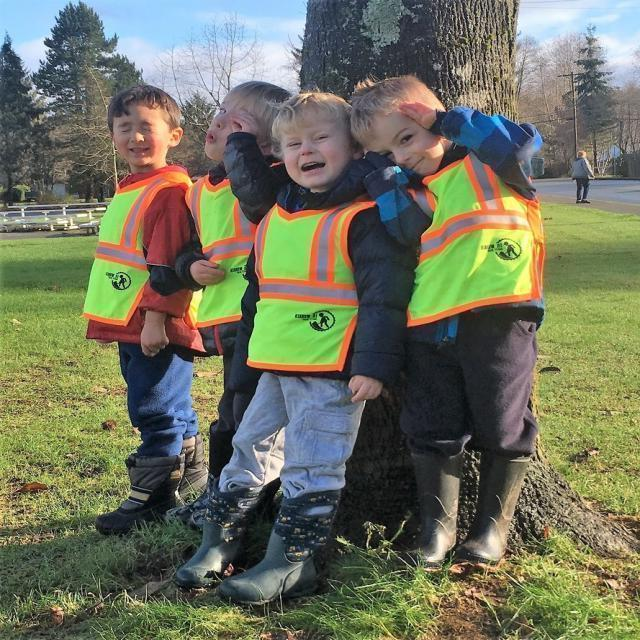safety_vest: (254, 176, 361, 381), (418, 162, 536, 316), (82, 163, 174, 339), (187, 158, 246, 334)
